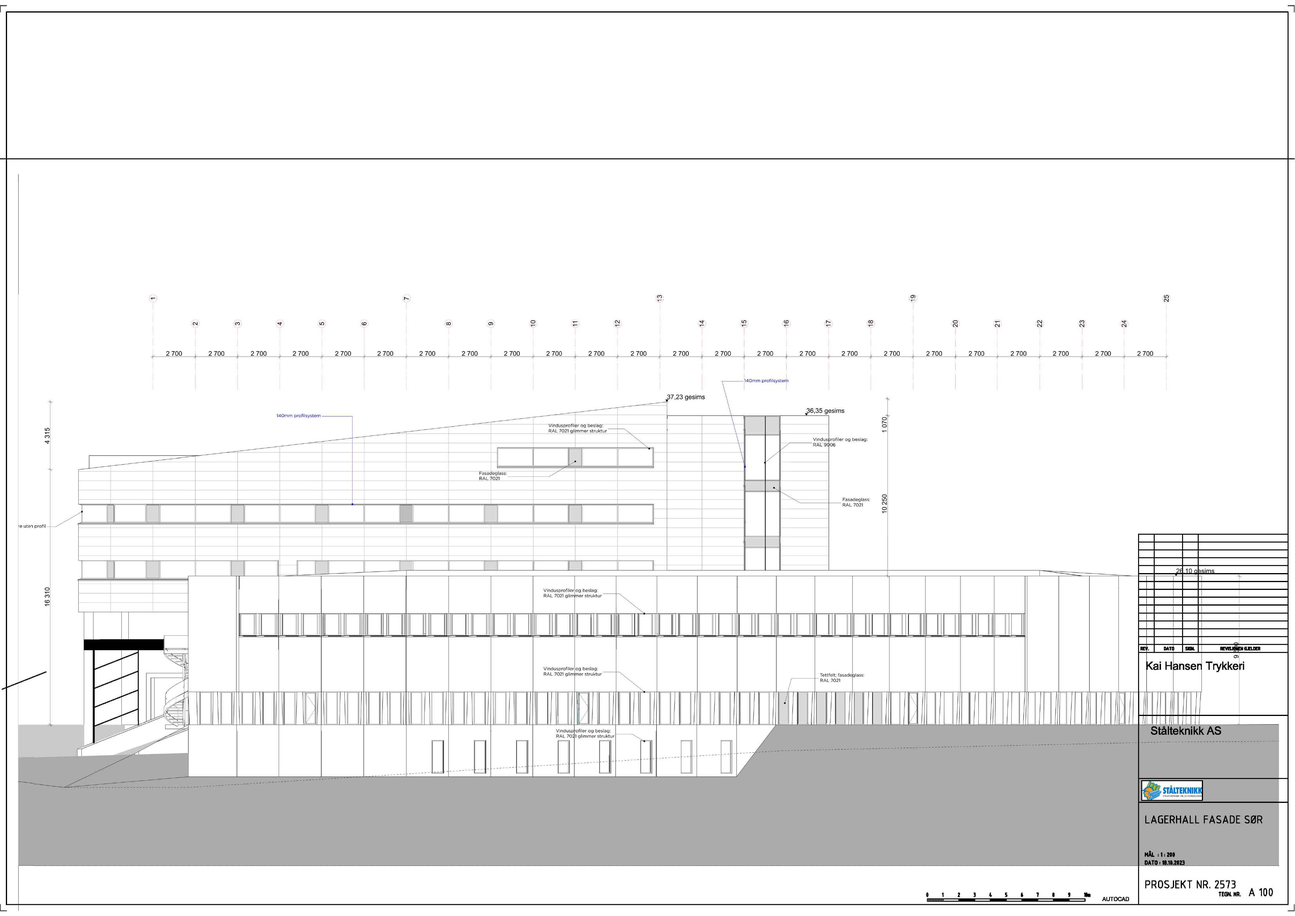fasade: (78, 403, 1136, 777)
